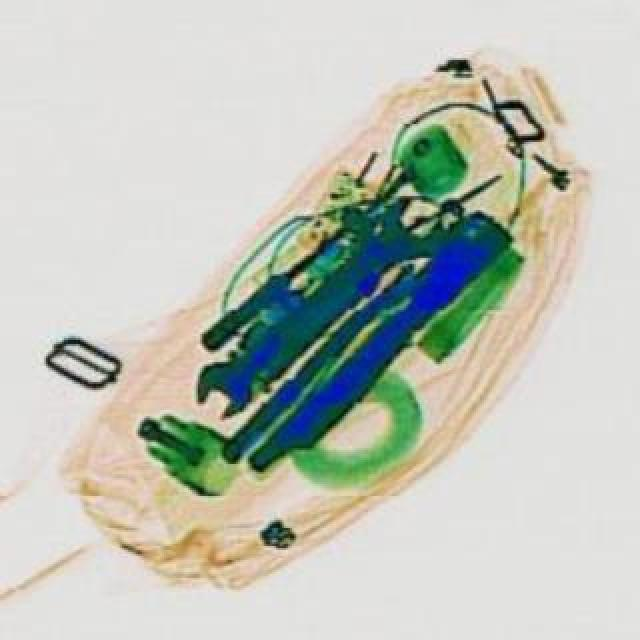scissors: (176, 186, 452, 426)
